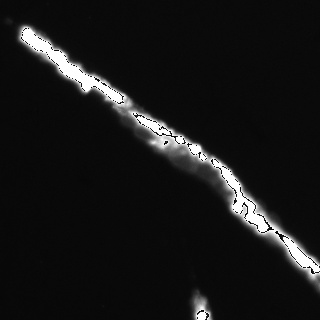embryo: (167, 148, 199, 172), (213, 175, 243, 198), (192, 159, 220, 183), (134, 125, 165, 142), (122, 111, 153, 127)
